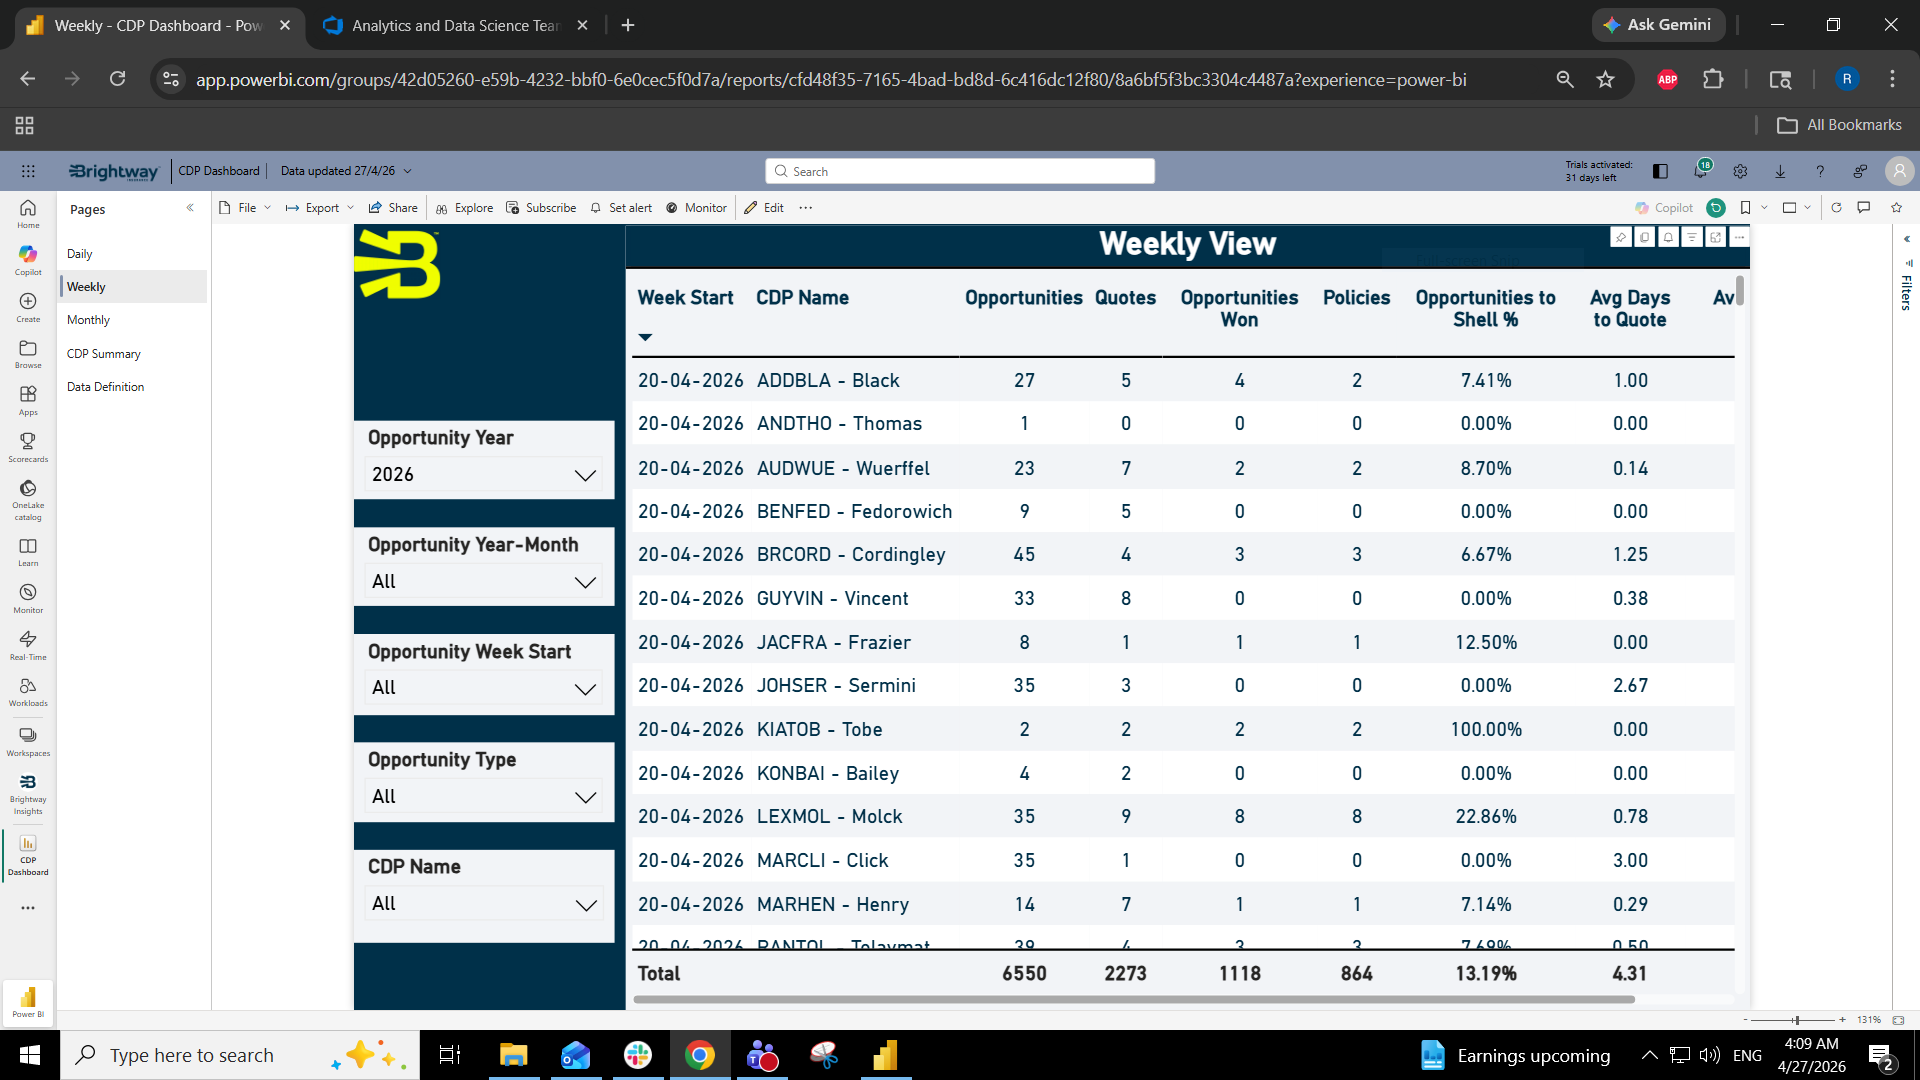

This screenshot's page, from the dashboard's own definition file:
{"tool":"powerbi","page":{"name":"Weekly","canvas":[1280,720],"ordinal":1},"visuals":[{"type":"tableEx","title":"Weekly View","fields":{"Values":["Date.Week Start","CDP.CDP Name","CDP.Opportunities Count","CDP.Quotes Count","CDP.Opportunities Won","CDP.Policies","CDP.Conversion %","CDP.Avg Days to Quote (DateDiff)","CDP.Avg Days to Shell (DateDiff)"]},"box":[248.8,1.2,1031,719.1],"z":0},{"type":"slicer","fields":{"Values":["Date.Year"]},"box":[0,180.6,238.3,72.5],"z":1000},{"type":"slicer","fields":{"Values":["Date.Week Start"]},"box":[0,376,238.3,74],"z":2000},{"type":"slicer","fields":{"Values":["Date.Month-Year"]},"box":[0,278.3,238.3,72.5],"z":3000},{"type":"image","box":[0,0,79.7,72.2],"z":4000},{"type":"slicer","fields":{"Values":["CDP.opportunitytype"]},"box":[0,475.1,238.5,73.5],"z":5000},{"type":"slicer","fields":{"Values":["CDP.Employee Key"]},"box":[0,573.8,239.3,85.7],"z":6000}]}

Visuals, with their boxes on the page's 1280x720 design canvas (x1, y1, x2, y2). These are canvas units, not pixel positions in the 1920x1080 screenshot, which may show the page scaled, cropped or inside an application window:
"Weekly View" tableEx: [249,1,1280,720]
slicer - Date.Year: [0,181,238,253]
slicer - Date.Week Start: [0,376,238,450]
slicer - Date.Month-Year: [0,278,238,351]
image: [0,0,80,72]
slicer - CDP.opportunitytype: [0,475,238,549]
slicer - CDP.Employee Key: [0,574,239,660]
